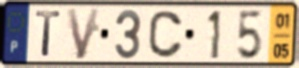1: (206, 9, 223, 61)
3: (113, 7, 142, 61)
5: (235, 8, 266, 61)
C: (147, 9, 185, 60)
T: (34, 9, 62, 59)
V: (64, 6, 103, 62)
